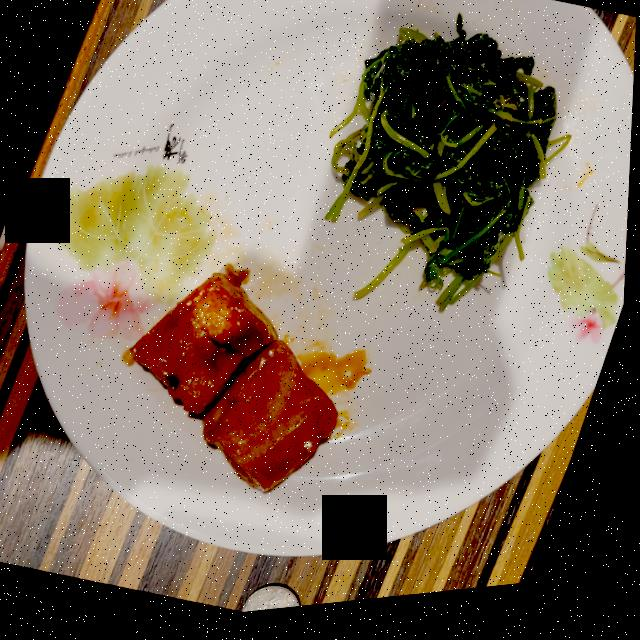coin: (247, 591, 306, 618)
creamy tofu: (125, 269, 342, 497)
sweet potato leaves: (328, 27, 572, 321)
